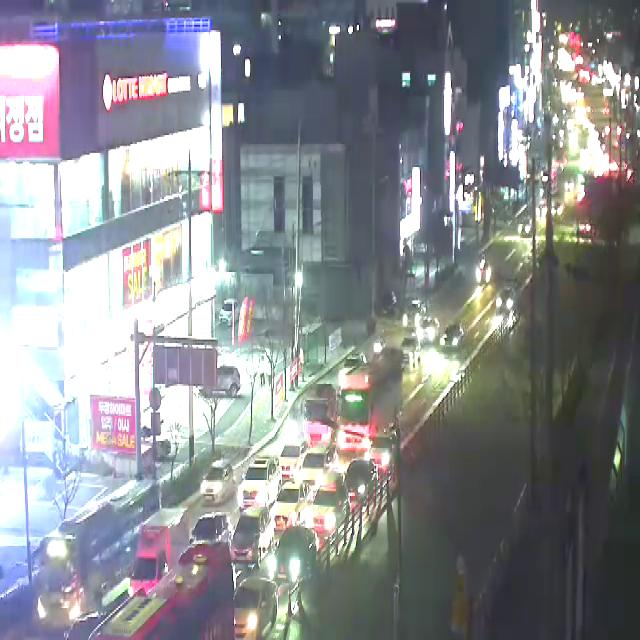Bus: (40, 479, 160, 627), (338, 348, 402, 452)
Car: (234, 575, 277, 640), (230, 508, 271, 570), (238, 455, 282, 512), (271, 527, 317, 581), (299, 447, 338, 504), (313, 473, 347, 538), (270, 482, 313, 530), (200, 460, 234, 504), (345, 459, 376, 506), (189, 511, 230, 546), (198, 364, 240, 397), (339, 352, 368, 397), (66, 612, 112, 640), (368, 432, 396, 475), (281, 441, 308, 483), (404, 299, 428, 329), (401, 335, 421, 370), (417, 317, 440, 345), (440, 325, 465, 350), (496, 286, 516, 315), (219, 299, 240, 325), (380, 291, 397, 316)
Truck: (88, 541, 235, 640), (130, 508, 189, 598), (300, 384, 337, 446)
